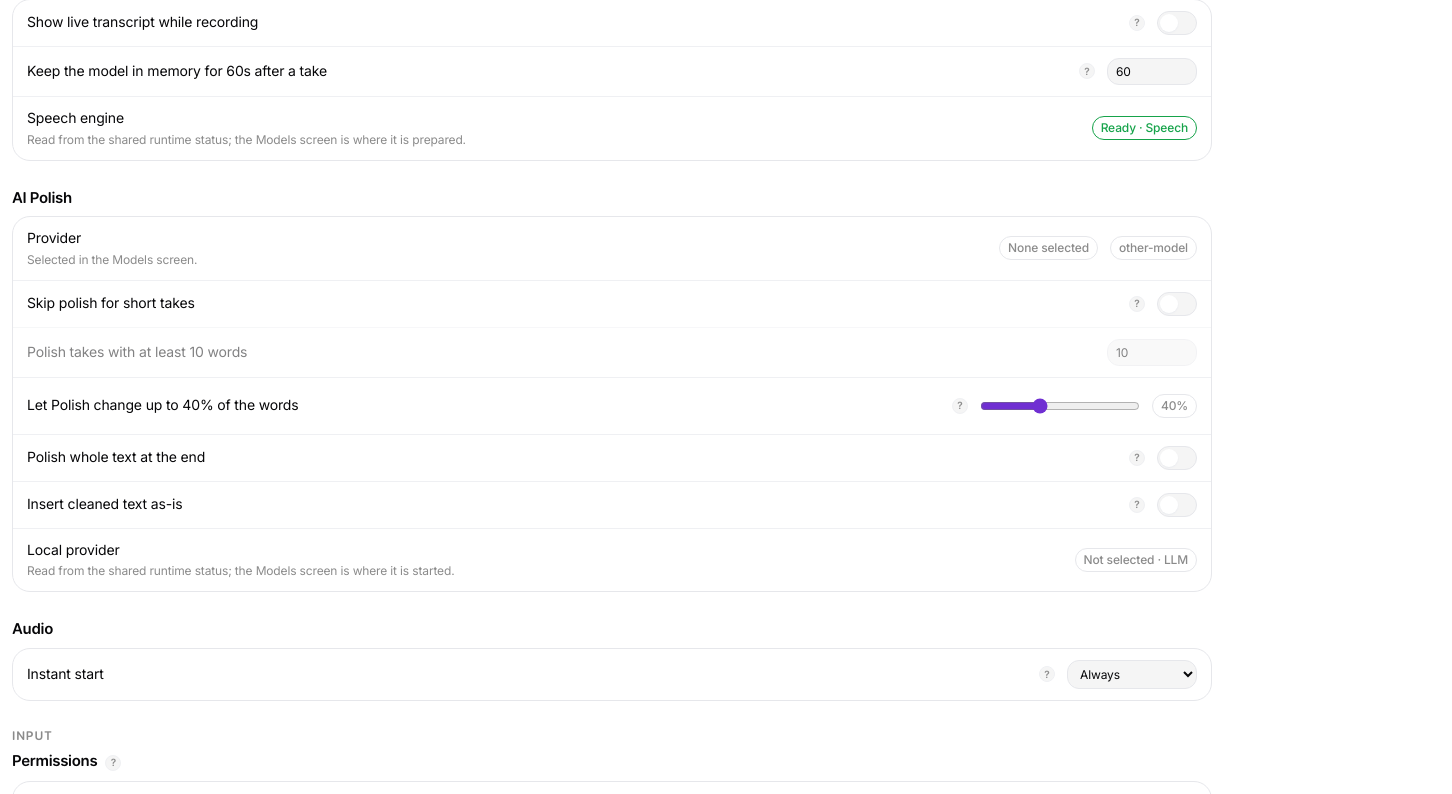
it: Polish change ceiling › saves a raised ceiling
(page scrolled)
Set the slider named "Polish change limit" to "70": (1084, 406) x1=980 y1=389 x2=1140 y2=423
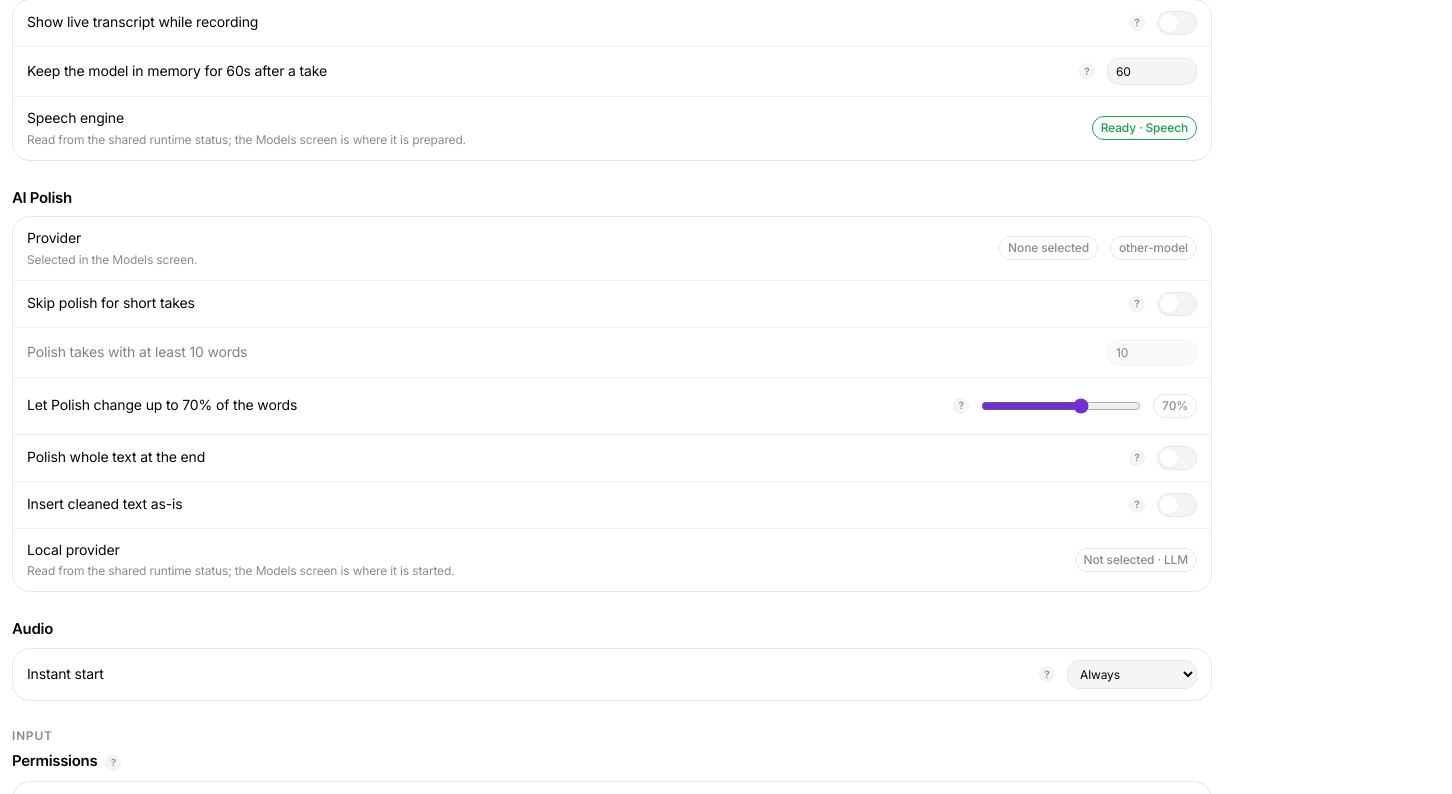
Expected: the element named "Polish change limit" shows "Let Polish change up to 70% of the words", x1=27 y1=396 x2=297 y2=413
